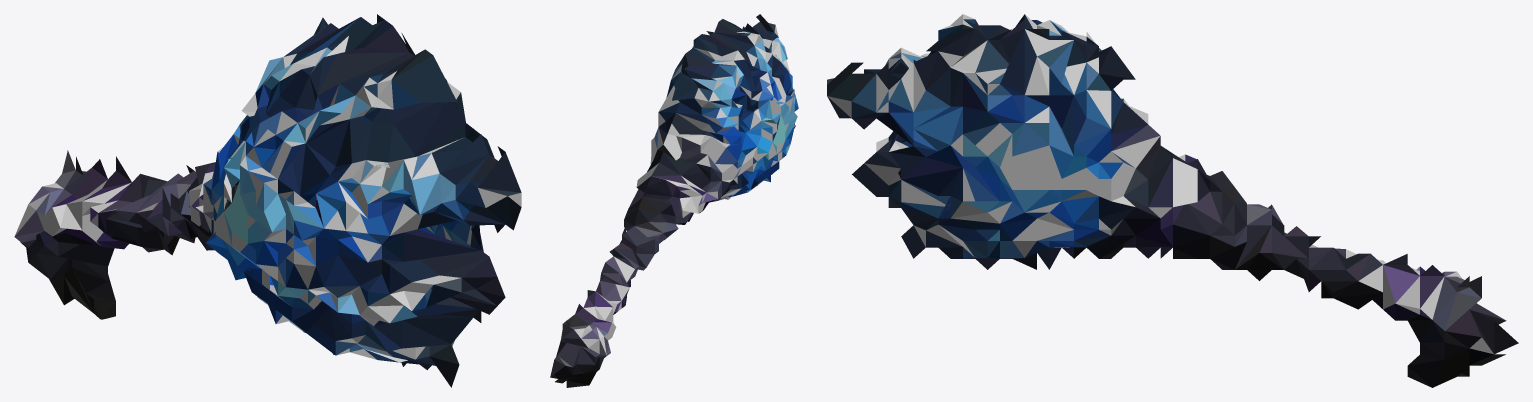
The model's file is B11_4_stormcaller_staff.obj.
The picture shows the model from 3 angles, left to right: view 1: azimuth 30°, elevation 25°; view 2: azimuth 150°, elevation 25°; view 3: azimuth 270°, elevation 25°; orthographic projection. The views are drawn at different scales.
Visible parts, largest first — view 1: B11_4_stormcaller_staff; view 2: B11_4_stormcaller_staff; view 3: B11_4_stormcaller_staff.
Part boxes in pixels (x1,y1,x2,y2): B11_4_stormcaller_staff: [14, 14, 521, 387]; B11_4_stormcaller_staff: [550, 14, 798, 387]; B11_4_stormcaller_staff: [827, 14, 1518, 387].
Bounding box in the file's own units: 14 × 33 × 56.
